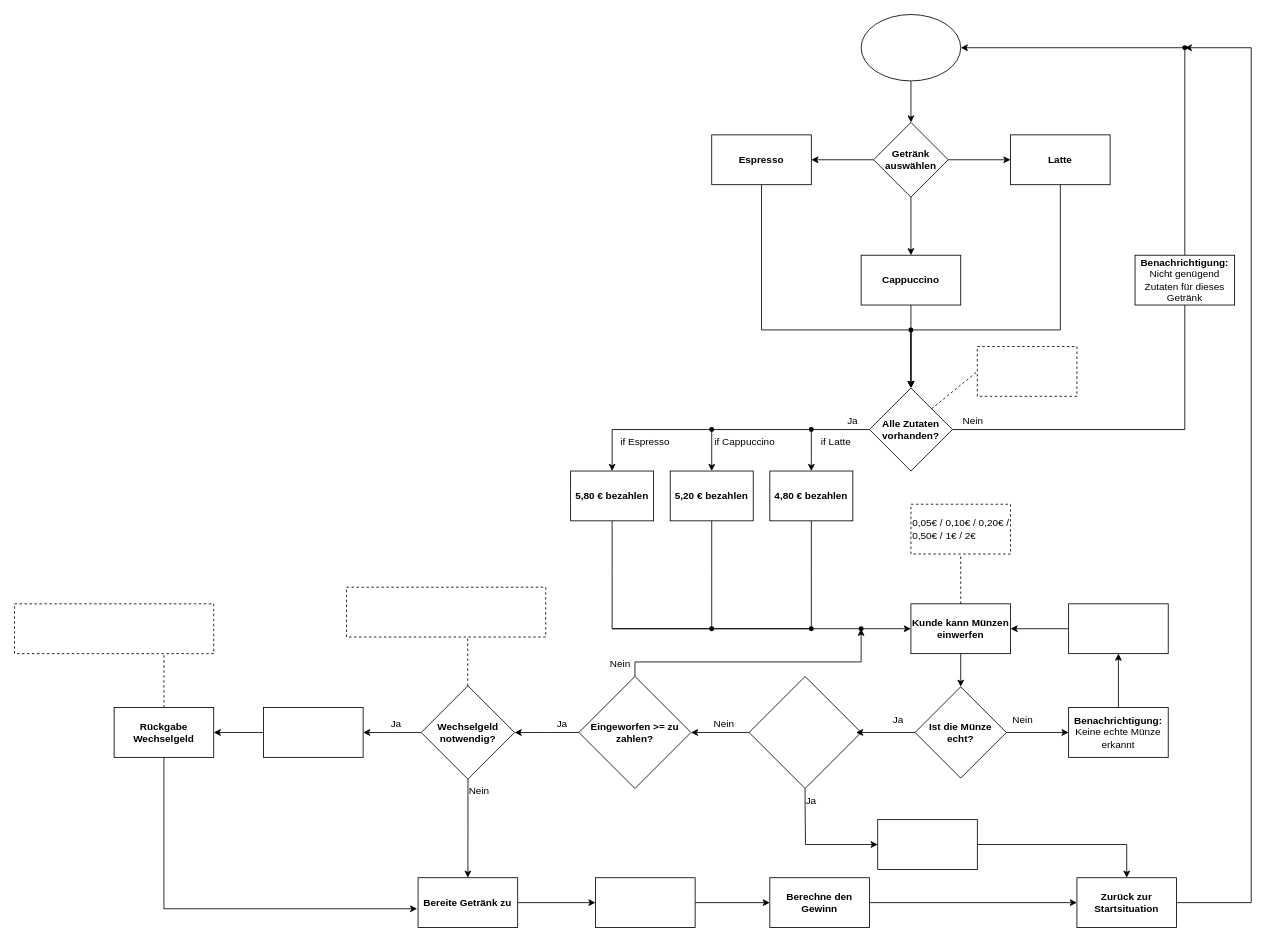
The diagram is 1272 pixels wide and 942 high, and some of its shapes have lost their labels. Here are the shapes that lost their labels. From the top down, the centre of each, then its label:
(910,47): Start
(1026,371): Milch Wasser Kaffee
(114,628): Annahme: Immer Wechselgeld vorhanden
(446,611): Wechselgeld = Eingeworfen - zu zahlen
(1118,628): Rückgabe der eingeworfenen "Münzen"
(313,732): Berechne Wechselgeld
(804,732): Zahlungsvorgang abbrechen?
(927,844): Rückgabe der eingeworfenen Münzen
(645,902): Reduziere Zutaten im Automat
